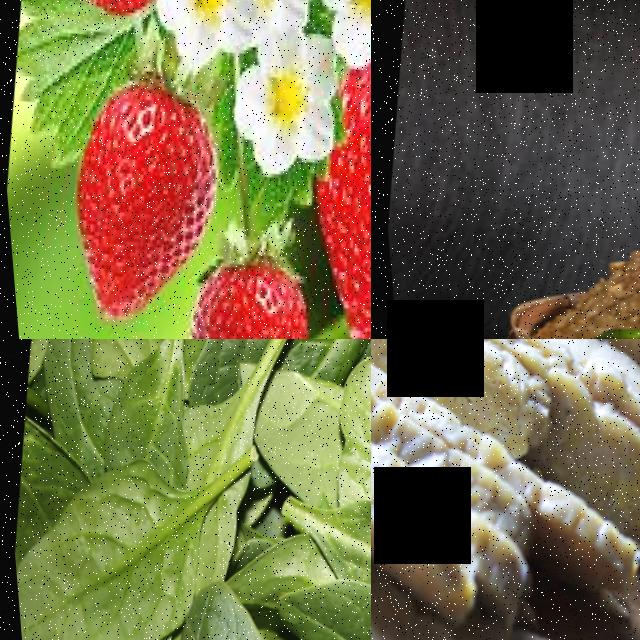spinach: (3, 440, 207, 640), (90, 339, 200, 475), (127, 575, 310, 640), (316, 351, 371, 517)
strawberry: (54, 70, 231, 281), (273, 68, 371, 339), (158, 252, 321, 339)
tempeh: (371, 339, 570, 460), (371, 524, 523, 640), (543, 388, 640, 556)
